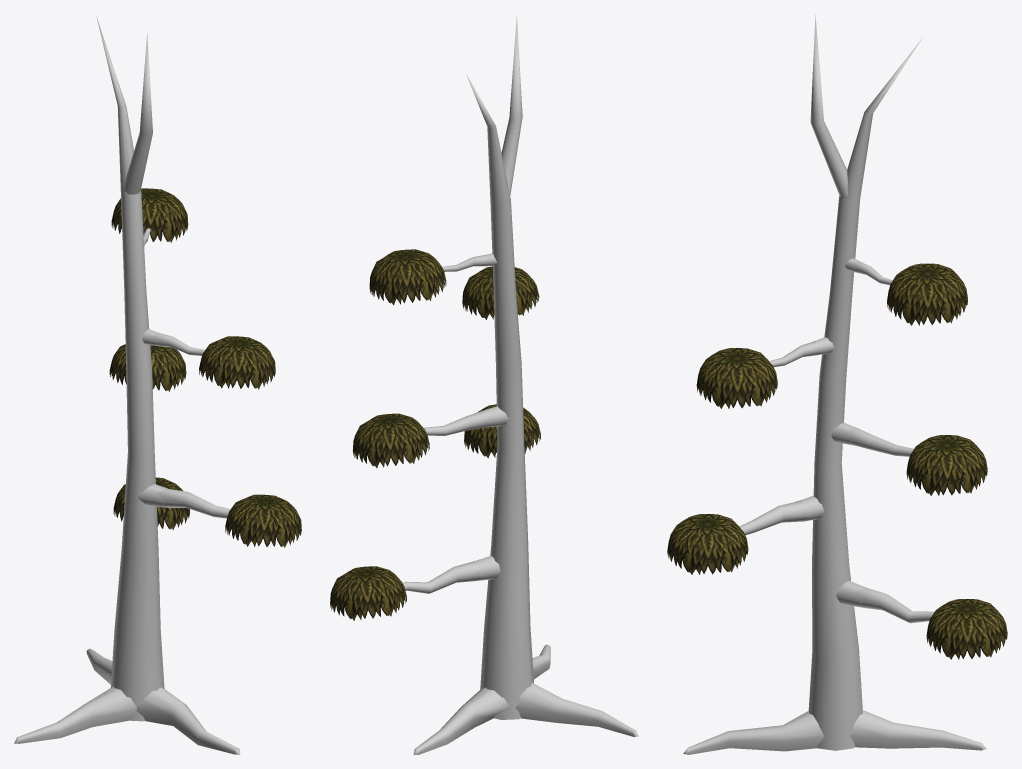
Rendered from arbol_viejo (2).fbx.
3 renders of one model, left to right at view 1: azimuth 30°, elevation 25°; view 2: azimuth 150°, elevation 25°; view 3: azimuth 270°, elevation 25°, orthographic. The views are drawn at different scales.
Parts seen in each view (by area): view 1: arbol_viejo_Group3, Hojas_Group006, Hojas_Group004, arbol_viejo_Group6, arbol_viejo_Group4, Hojas_Group002, Hojas_Group003, arbol_viejo_Group2, Hojas_Group005, arbol_viejo_Group9, arbol_viejo_Group13, arbol_viejo_Group5; view 2: arbol_viejo_Group3, Hojas_Group002, Hojas_Group005, Hojas_Group003, arbol_viejo_Group6, arbol_viejo_Group5, Hojas_Group004, arbol_viejo_Group2, Hojas_Group006, arbol_viejo_Group7, arbol_viejo_Group11; view 3: arbol_viejo_Group3, Hojas_Group002, Hojas_Group003, Hojas_Group006, Hojas_Group004, Hojas_Group005, arbol_viejo_Group4, arbol_viejo_Group5, arbol_viejo_Group2, arbol_viejo_Group7, arbol_viejo_Group9, arbol_viejo_Group11.
Part boxes in pixels (x1,y1,x2,y2): arbol_viejo_Group3: (96, 16, 164, 721); Hojas_Group006: (225, 494, 301, 547); Hojas_Group004: (199, 336, 275, 389); arbol_viejo_Group6: (14, 686, 136, 743); arbol_viejo_Group4: (136, 687, 240, 754); Hojas_Group002: (111, 188, 188, 242); Hojas_Group003: (109, 344, 186, 391); arbol_viejo_Group2: (124, 33, 152, 194); Hojas_Group005: (113, 477, 189, 529); arbol_viejo_Group9: (157, 489, 230, 518); arbol_viejo_Group13: (152, 333, 204, 355); arbol_viejo_Group5: (86, 648, 112, 684); arbol_viejo_Group3: (466, 74, 533, 719); Hojas_Group002: (369, 249, 446, 305); Hojas_Group005: (330, 566, 406, 620); Hojas_Group003: (352, 413, 429, 467); arbol_viejo_Group6: (515, 683, 638, 736); arbol_viejo_Group5: (413, 687, 510, 754); Hojas_Group004: (462, 266, 539, 319); arbol_viejo_Group2: (501, 15, 522, 196); Hojas_Group006: (464, 404, 540, 458); arbol_viejo_Group7: (402, 561, 482, 593); arbol_viejo_Group11: (424, 410, 492, 435); arbol_viejo_Group3: (808, 38, 922, 750); Hojas_Group002: (887, 263, 967, 325); Hojas_Group003: (906, 435, 987, 495); Hojas_Group006: (667, 514, 748, 574); Hojas_Group004: (696, 348, 777, 408); Hojas_Group005: (926, 599, 1007, 659); arbol_viejo_Group4: (683, 711, 824, 754); arbol_viejo_Group5: (850, 710, 986, 750); arbol_viejo_Group2: (810, 14, 847, 197); arbol_viejo_Group7: (854, 588, 934, 623); arbol_viejo_Group9: (739, 500, 810, 535); arbol_viejo_Group11: (846, 428, 913, 456).
Size of the model in its own units: 13.68 by 37.93 by 16.16.
